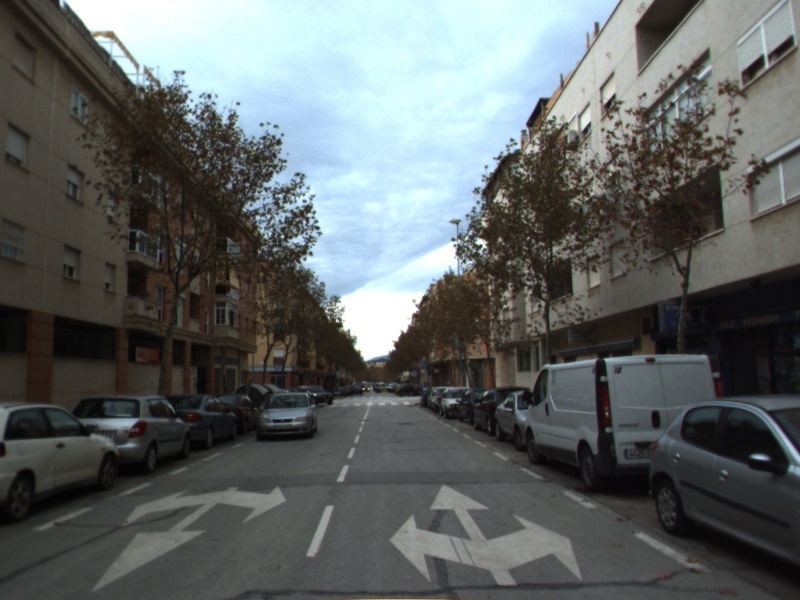STRAIGHT_LEFT_RIGHT: (387, 481, 584, 588)
